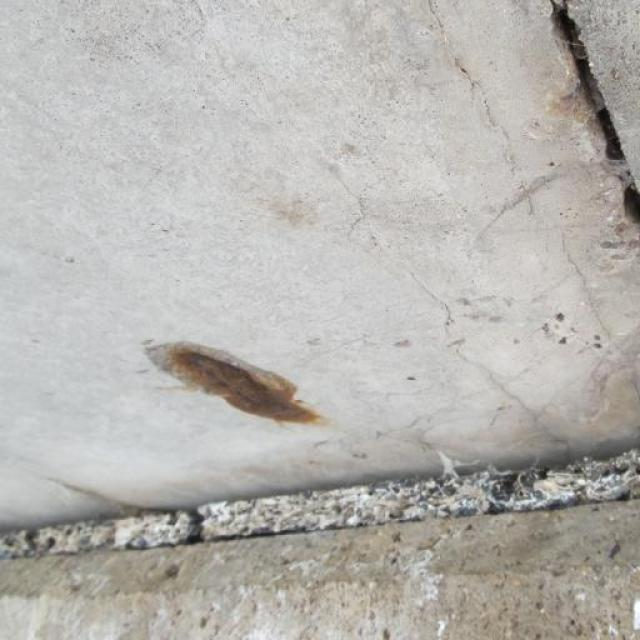D10: (145, 341, 320, 422)
